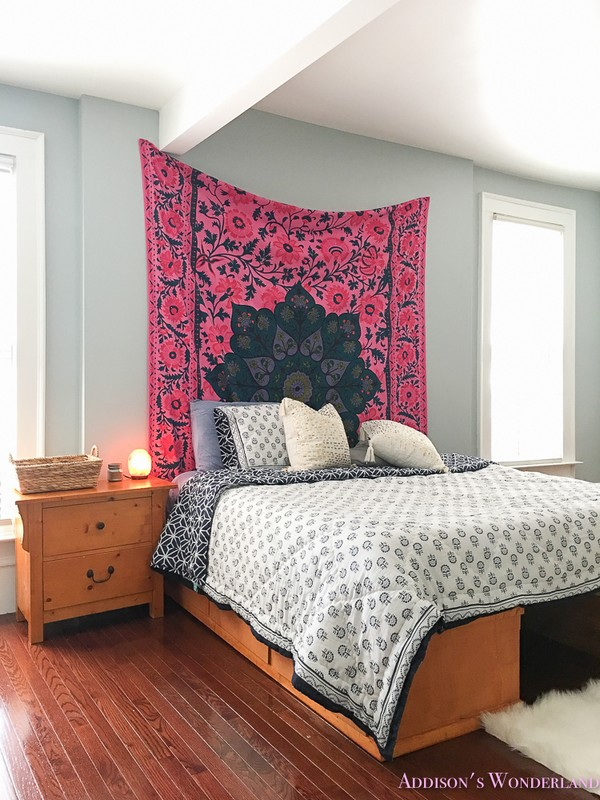bed: (168, 396, 599, 759)
stool: (13, 477, 165, 644)
